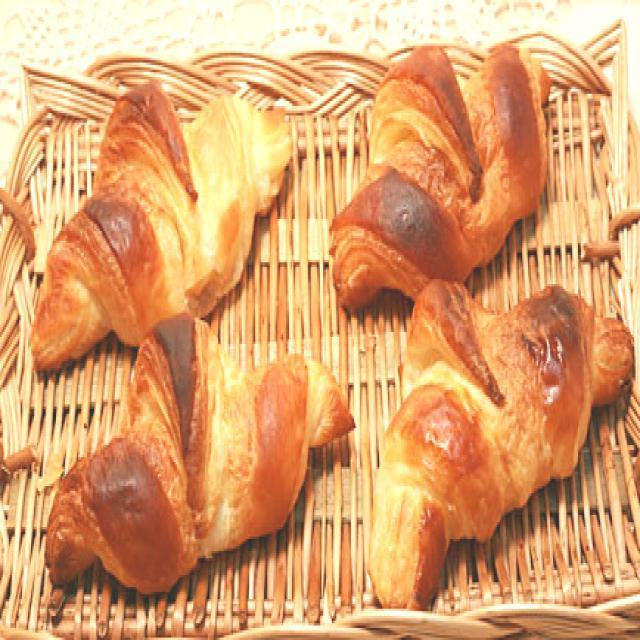Croissant: (356, 253, 638, 612)
